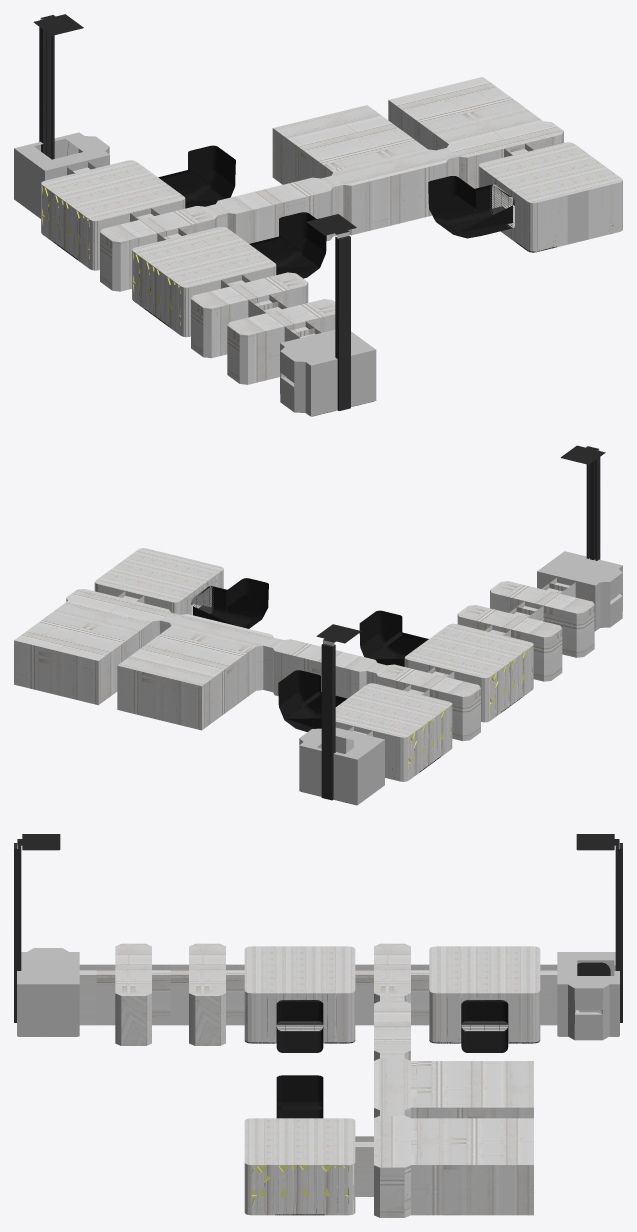
The model's file is Space Station Showcase Demo.fbx.
The picture shows the model from 3 angles, top to bottom: view 1: azimuth 30°, elevation 25°; view 2: azimuth 150°, elevation 25°; view 3: azimuth 270°, elevation 25°; orthographic projection. The views are drawn at different scales.
Visible parts, largest first — view 1: Elevator + Lobby, Gang Export.003, Gang Export.002, Gang Export.005, Gang Export.004, Gang Export.001, Gang Export; view 2: Elevator + Lobby, Gang Export.003, Gang Export.002, Gang Export.005, Gang Export, Gang Export.004, Gang Export.001; view 3: Elevator + Lobby, Gang Export.002, Gang Export.003, Gang Export.004, Gang Export.005, Gang Export, Gang Export.001.
Boxes of the visible parts, x1,y1,x2,y2 form: Elevator + Lobby: (14, 14, 622, 416); Gang Export.003: (272, 105, 458, 235); Gang Export.002: (388, 77, 563, 188); Gang Export.005: (227, 299, 335, 384); Gang Export.004: (191, 272, 308, 358); Gang Export.001: (216, 176, 343, 243); Gang Export: (100, 204, 227, 291); Elevator + Lobby: (94, 445, 622, 805); Gang Export.003: (117, 612, 273, 730); Gang Export.002: (14, 589, 170, 705); Gang Export.005: (490, 581, 594, 657); Gang Export: (366, 663, 480, 741); Gang Export.004: (457, 605, 562, 681); Gang Export.001: (263, 638, 377, 698); Elevator + Lobby: (14, 834, 622, 1215); Gang Export.002: (374, 1115, 533, 1217); Gang Export.003: (374, 1058, 533, 1118); Gang Export.004: (170, 943, 244, 1045); Gang Export.005: (96, 943, 170, 1045); Gang Export: (355, 943, 429, 1025); Gang Export.001: (374, 1001, 410, 1060).
Size of the model in its own units: 43 by 16.02 by 49.43.
